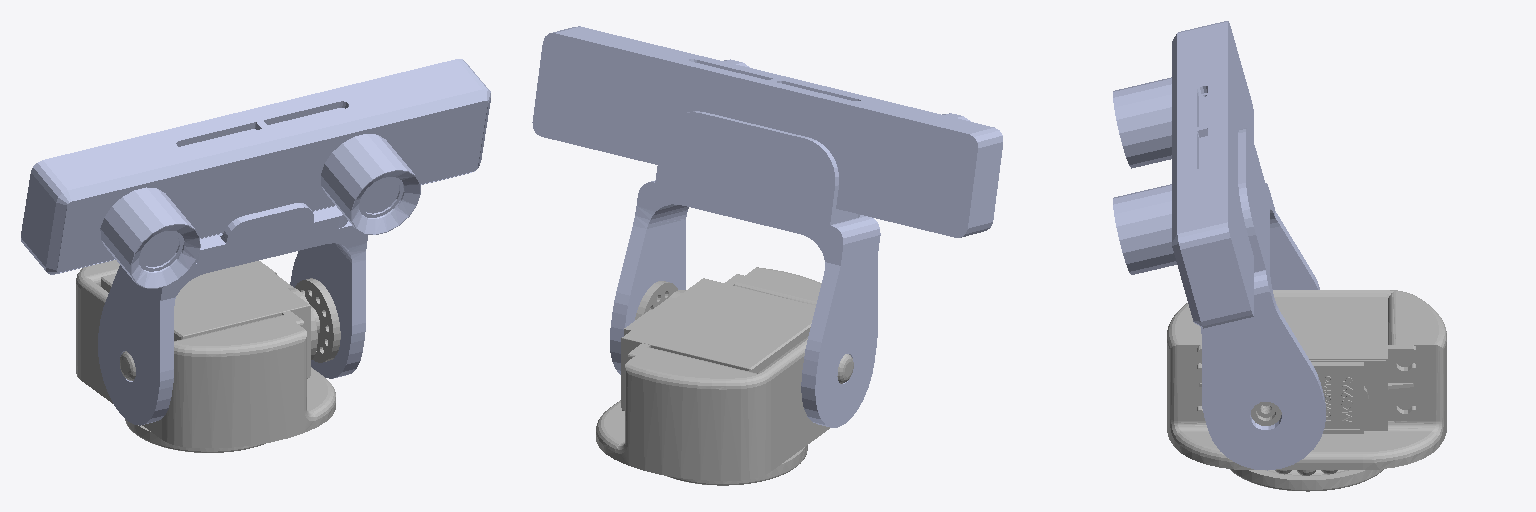
URDF robot description (camera_mechanism):
<?xml version="1.0" encoding="utf-8" ?>
<!-- This URDF was automatically created by SolidWorks to URDF Exporter! Originally created by [author] ([email redacted]) 
     Commit Version: 1.6.0-4-g7f85cfe  Build Version: 1.6.7995.38578
     For more information, please see http://wiki.ros.org/sw_urdf_exporter -->
<robot name="camera_mechanism">
    <link name="base_link">
        <inertial>
            <origin xyz="-1.042E-08 -0.0034422 0.026198" rpy="0 0 0" />
            <mass value="0.090334" />
            <inertia ixx="6.8467E-05" ixy="5.9979E-12" ixz="1.3439E-12" iyy="6.5123E-05" iyz="-1.8873E-07" izz="0.00010174" />
        </inertial>
        <visual>
            <origin xyz="0 0 0" rpy="0 0 0" />
            <geometry>
                <mesh filename="package://camera_mechanism/meshes/base_link.STL" />
            </geometry>
            <material name="">
                <color rgba="0.79216 0.81961 0.93333 1" />
            </material>
        </visual>
        <collision>
            <origin xyz="0 0 0" rpy="0 0 0" />
            <geometry>
                <mesh filename="package://camera_mechanism/meshes/base_link.STL" />
            </geometry>
        </collision>
    </link>
    <link name="link_1">
        <inertial>
            <origin xyz="-0.0027443 -0.00020749 0.01696" rpy="0 0 0" />
            <mass value="0.076293" />
            <inertia ixx="2.7852E-05" ixy="1.4475E-08" ixz="7.7988E-07" iyy="1.3885E-05" iyz="1.464E-08" izz="3.4693E-05" />
        </inertial>
        <visual>
            <origin xyz="0 0 0" rpy="0 0 0" />
            <geometry>
                <mesh filename="package://camera_mechanism/meshes/link_1.STL" />
            </geometry>
            <material name="">
                <color rgba="0.75294 0.75294 0.75294 1" />
            </material>
        </visual>
        <collision>
            <origin xyz="0 0 0" rpy="0 0 0" />
            <geometry>
                <mesh filename="package://camera_mechanism/meshes/link_1.STL" />
            </geometry>
        </collision>
    </link>
    <joint name="joint_1" type="revolute">
        <origin xyz="0 0 0.045256" rpy="0 0 0" />
        <parent link="base_link" />
        <child link="link_1" />
        <axis xyz="-1 0 0" />
        <limit lower="-1.5708" upper="1.5708" effort="15" velocity="137" />
    </joint>
    <link name="link_2">
        <inertial>
            <origin xyz="-0.00065612 -0.02324 0.066711" rpy="0 0 0" />
            <mass value="0.076005" />
            <inertia ixx="1.011E-05" ixy="-8.0049E-07" ixz="-2.0661E-07" iyy="8.7416E-05" iyz="6.9519E-07" izz="8.4558E-05" />
        </inertial>
        <visual>
            <origin xyz="0 0 0" rpy="0 0 0" />
            <geometry>
                <mesh filename="package://camera_mechanism/meshes/link_2.STL" />
            </geometry>
            <material name="">
                <color rgba="0.79216 0.81961 0.93333 1" />
            </material>
        </visual>
        <collision>
            <origin xyz="0 0 0" rpy="0 0 0" />
            <geometry>
                <mesh filename="package://camera_mechanism/meshes/link_2.STL" />
            </geometry>
        </collision>
    </link>
    <joint name="joint_2" type="revolute">
        <origin xyz="0 0 0" rpy="0 0 0" />
        <parent link="link_1" />
        <child link="link_2" />
        <axis xyz="0 0 -1" />
        <limit lower="-1.5708" upper="1.5708" effort="15" velocity="137" />
    </joint>
    <transmission name="trans_joint_1">
        <type>transmission_interface/SimpleTransmission</type>
        <joint name="joint_1">
            <hardwareInterface>hardware_interface/EffortJointInterface</hardwareInterface>
        </joint>
        <actuator name="joint_1_motor">
            <hardwareInterface>hardware_interface/EffortJointInterface</hardwareInterface>
            <mechanicalReduction>1</mechanicalReduction>
        </actuator>
    </transmission>
    <transmission name="trans_joint_2">
        <type>transmission_interface/SimpleTransmission</type>
        <joint name="joint_2">
            <hardwareInterface>hardware_interface/EffortJointInterface</hardwareInterface>
        </joint>
        <actuator name="joint_2_motor">
            <hardwareInterface>hardware_interface/EffortJointInterface</hardwareInterface>
            <mechanicalReduction>1</mechanicalReduction>
        </actuator>
    </transmission>
    <gazebo>
        <plugin name="gazebo_ros_control">
            <robotNamespace>/</robotNamespace>
        </plugin>
    </gazebo>
</robot>

--- Render facts (derived) ---
The picture shows the robot from 3 angles, left to right: view 1: azimuth 30°, elevation 25°; view 2: azimuth 150°, elevation 25°; view 3: azimuth 270°, elevation 25°; orthographic projection.
Robot: camera_mechanism — 3 links, 2 joints (2 revolute); root link base_link; default pose: every joint at zero.
Visible links, largest first — view 1: link_2, link_1; view 2: link_2, link_1; view 3: link_2, link_1.
Boxes of the visible links, box(x1,y1,x2,y2) form: link_2: box(21, 59, 490, 425); link_1: box(76, 260, 340, 452); link_2: box(532, 26, 1002, 427); link_1: box(596, 267, 853, 485); link_2: box(1113, 21, 1325, 470); link_1: box(1167, 290, 1446, 491).
Bounding box of the posed robot: 0.1245 × 0.0834 × 0.0922 m (x, y, z).
Meshes: 3 distinct files referenced, 2 mesh visuals loaded (2 binary STL); not drawn: 1 (reference not matched to a file when rendering).